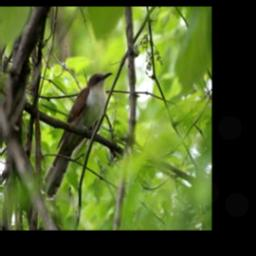Cuckoo: (41, 68, 114, 200)
